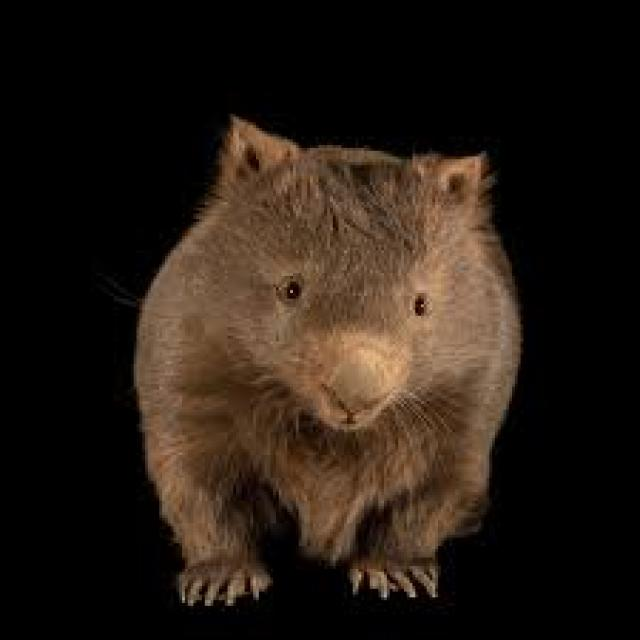Wombat: (131, 116, 530, 612)
